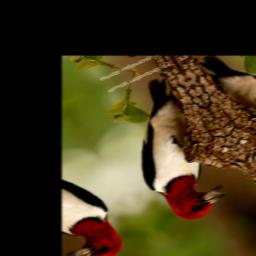Woodpecker: (91, 75, 247, 229)
